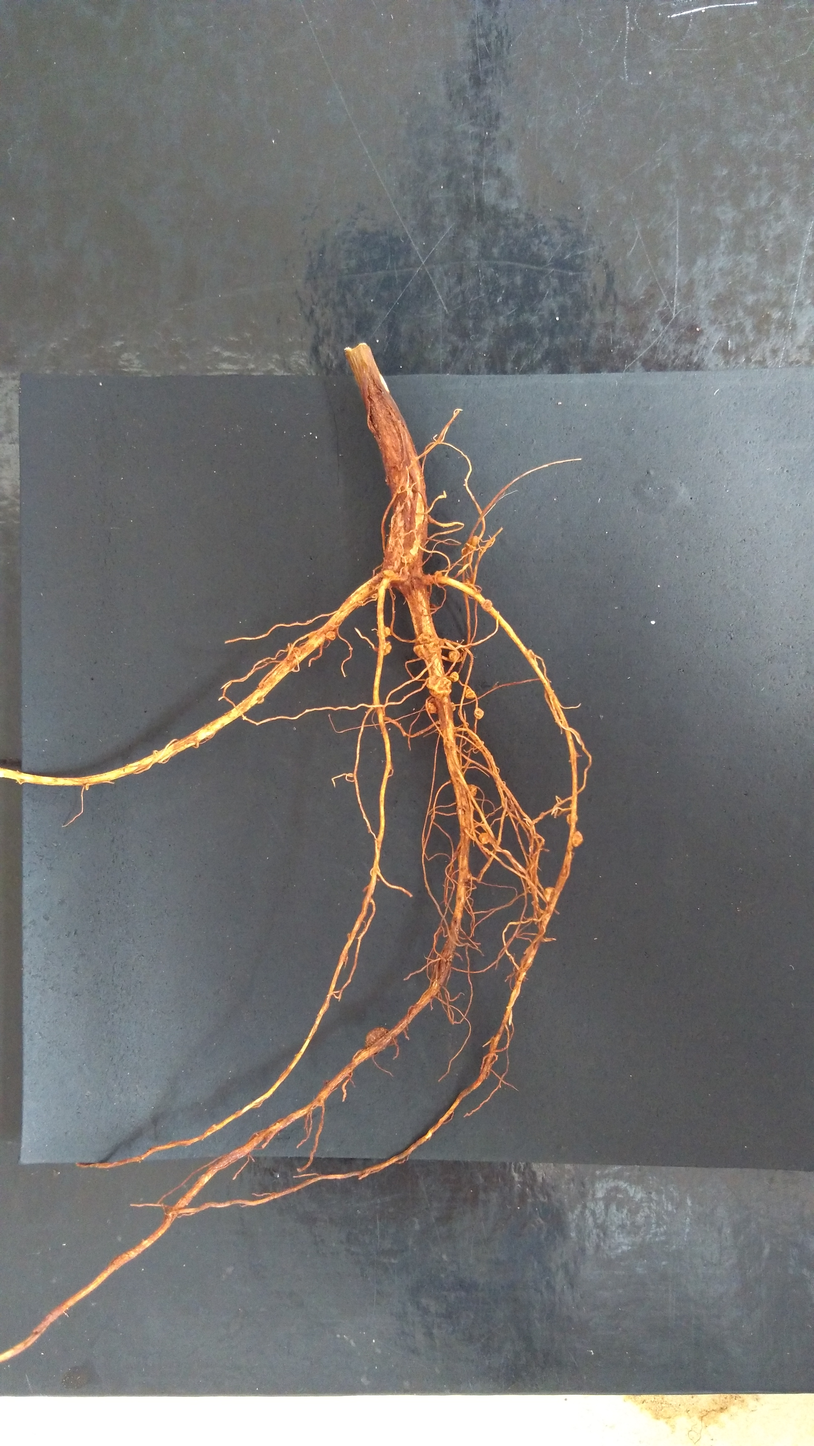nodule: (365, 1027, 391, 1053), (425, 675, 452, 698), (413, 641, 434, 661), (417, 632, 439, 646), (426, 697, 440, 714), (527, 649, 538, 667), (544, 886, 555, 903), (572, 830, 583, 847), (376, 626, 391, 638), (480, 599, 493, 611), (478, 832, 491, 844), (381, 641, 391, 656), (566, 813, 578, 825), (447, 650, 460, 661), (466, 784, 477, 797), (465, 688, 476, 700), (473, 707, 484, 719), (461, 545, 472, 556), (325, 630, 336, 641), (401, 554, 413, 564), (449, 671, 459, 683), (307, 629, 319, 638), (382, 569, 395, 577), (292, 647, 302, 657), (470, 535, 479, 545), (434, 570, 443, 578), (475, 740, 484, 748), (257, 697, 265, 705), (450, 701, 456, 711), (286, 654, 294, 660), (538, 812, 544, 819)
